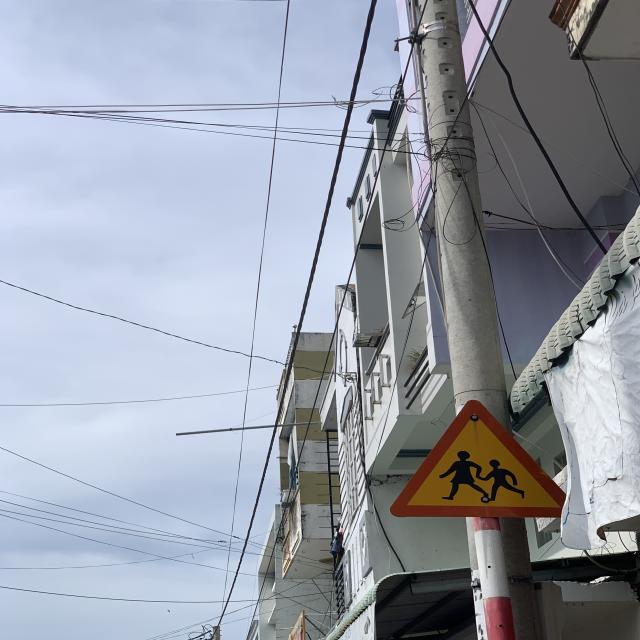Vong_Xuyen: (389, 398, 563, 518)
